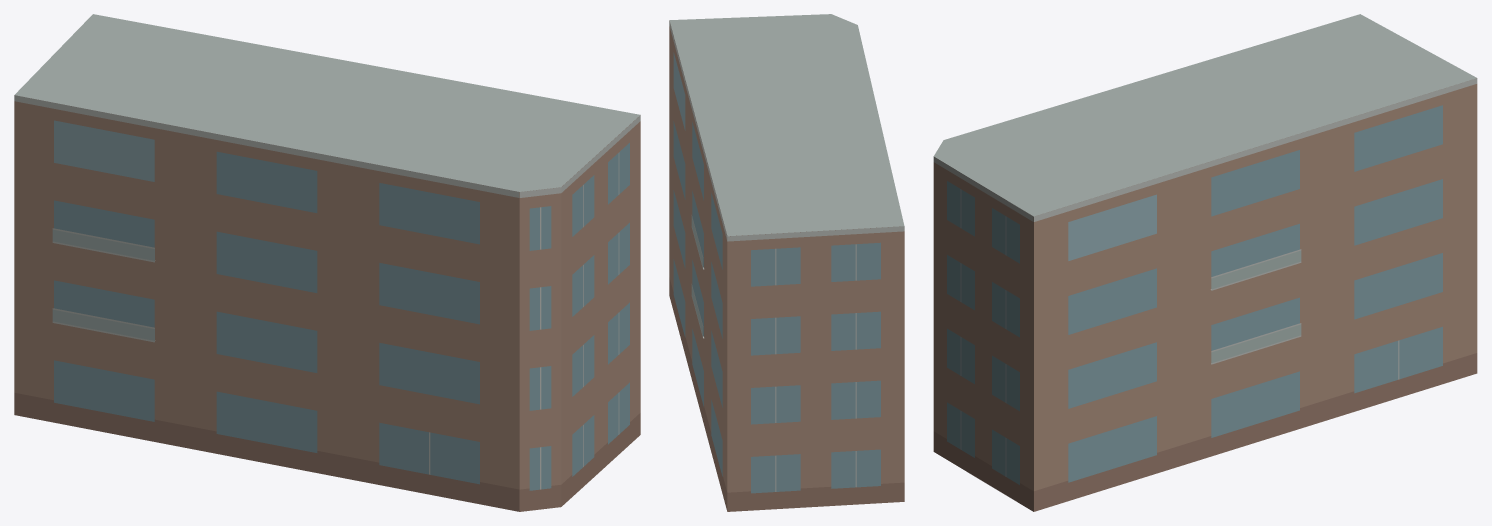
File: survey-upis-32667583.glb
The picture shows the model from 3 angles, left to right: view 1: azimuth 30°, elevation 25°; view 2: azimuth 150°, elevation 25°; view 3: azimuth 270°, elevation 25°; orthographic projection. The views are drawn at different scales.
Parts seen in each view (by area): view 1: survey-upis-32667583.tmp; view 2: survey-upis-32667583.tmp; view 3: survey-upis-32667583.tmp.
Boxes of the visible parts, box(x1,y1,x2,y2) form: survey-upis-32667583.tmp: box(14, 14, 640, 511); survey-upis-32667583.tmp: box(669, 14, 904, 511); survey-upis-32667583.tmp: box(933, 14, 1477, 511).
Bounding box in the file's own units: 18.84 × 12.8 × 21.37.
